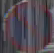No waiting: (3, 0, 53, 50)
